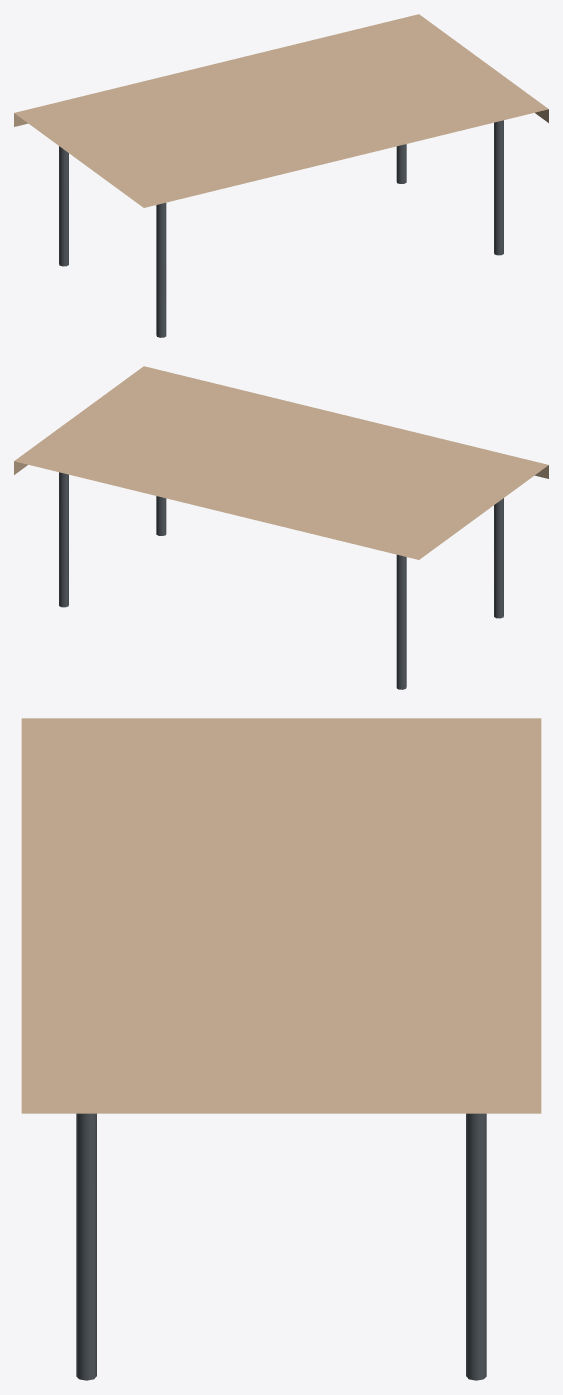
Rendered from coffee_table.glb.
3 views of the same model, one above another, from view 1: azimuth 30°, elevation 25°; view 2: azimuth 150°, elevation 25°; view 3: azimuth 270°, elevation 25° (orthographic). The views are drawn at different scales.
Visible parts, largest first — view 1: RootNode; view 2: RootNode; view 3: RootNode.
Part boxes in pixels (x1,y1,x2,y2): RootNode: (14,14,548,337); RootNode: (14,366,548,689); RootNode: (21,718,541,1380).
Bounding box in the file's own units: 3.6 × 1.25 × 2.
